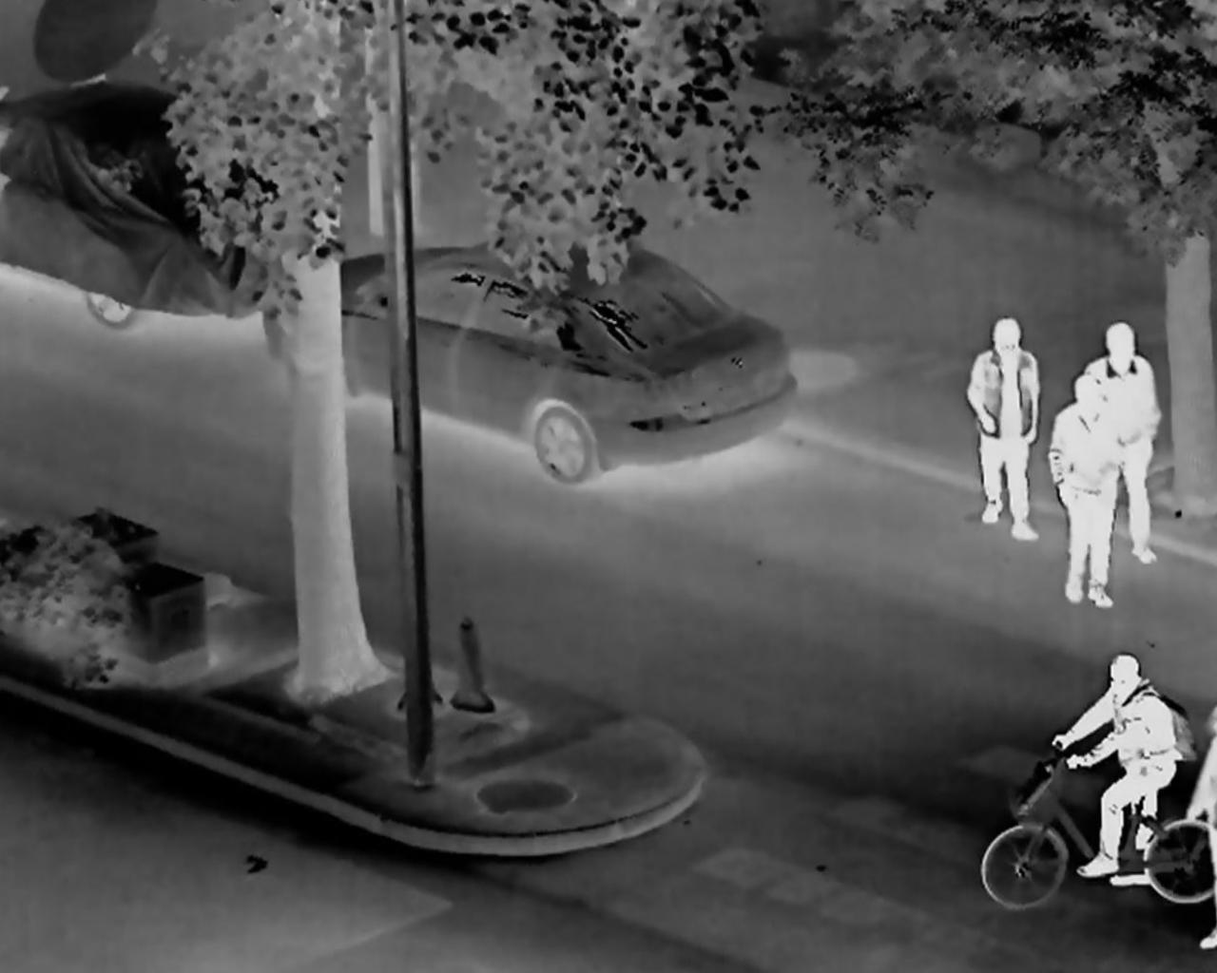person: (1051, 655, 1176, 888), (1082, 324, 1161, 564), (1049, 375, 1120, 612), (971, 319, 1039, 544)
